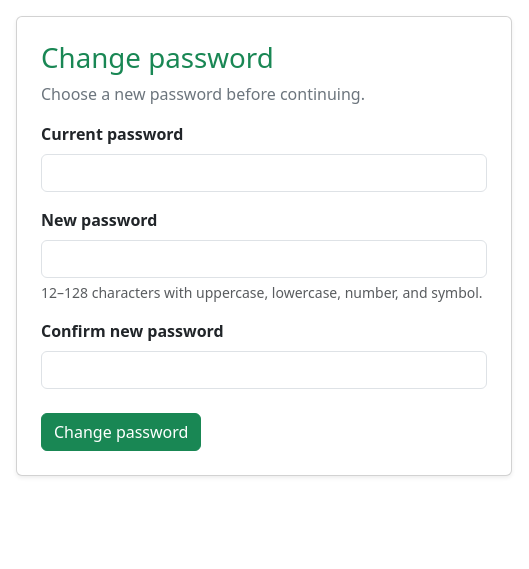
Test: Lab 3 authentication screens › keeps a mismatched password in the form and explains the problem
The image size is (529, 569).
In the password field labelled "Current password": [264, 173] box left=41, top=154, right=487, bottom=192, type "OldPassword!2026"
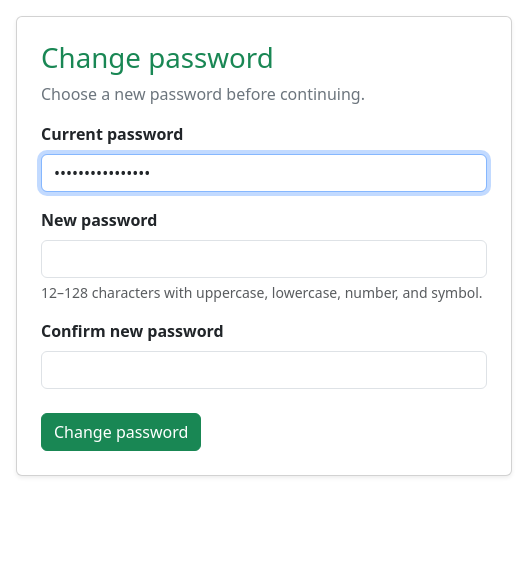
In the password field labelled "New password": [264, 259] box left=41, top=240, right=487, bottom=278, type "NewPassword!2026"
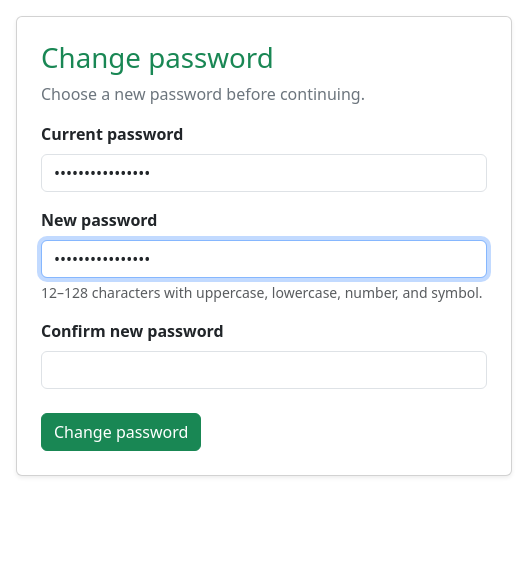
In the password field labelled "Confirm new password": [264, 370] box left=41, top=351, right=487, bottom=389, type "Different!2026"
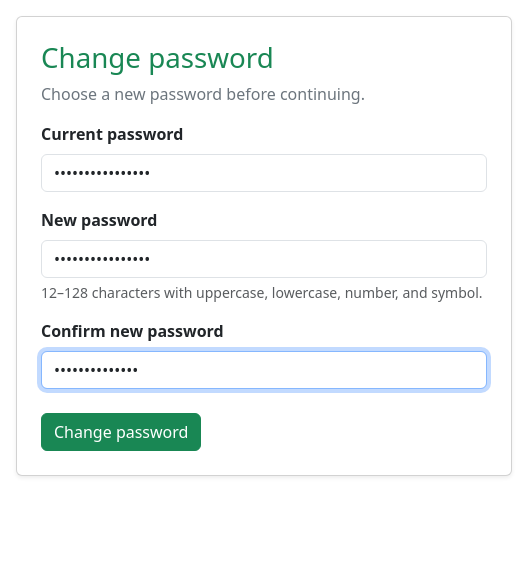
Click the button "Change password": [121, 432] box left=41, top=413, right=201, bottom=451
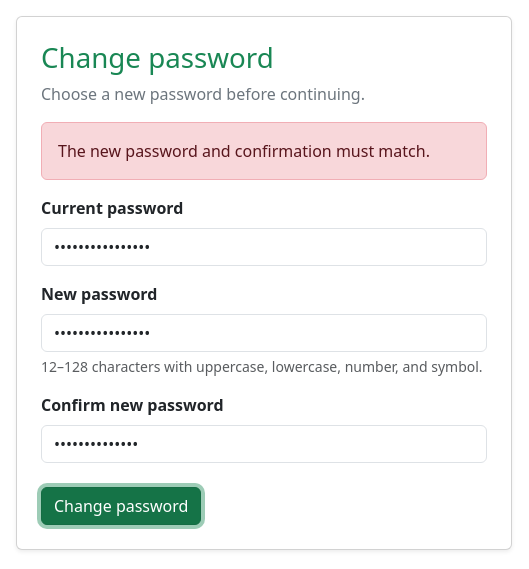
Expected: the message shows "must match", left=58, top=140, right=430, bottom=162
